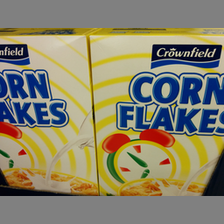cereal: (89, 34, 224, 198), (1, 34, 89, 196)
